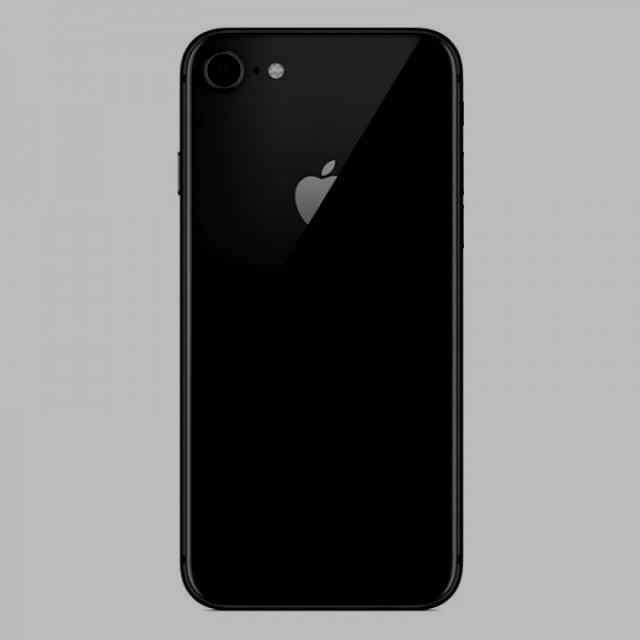fake: (174, 19, 466, 608)
